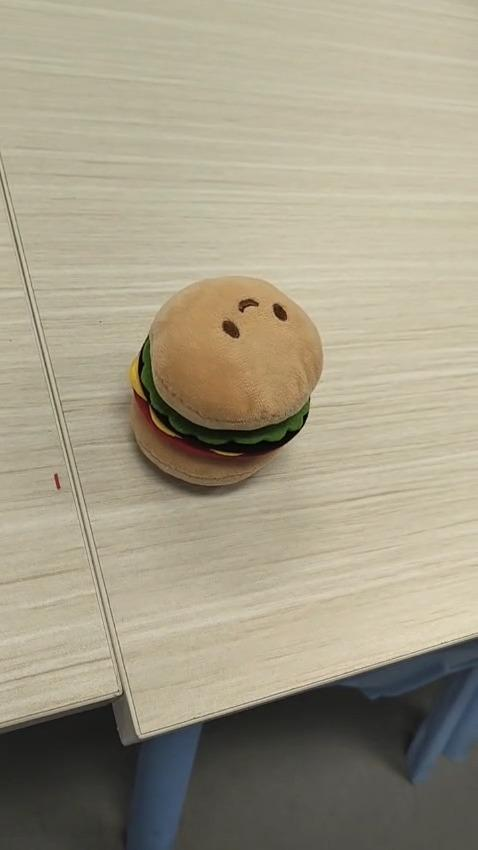hamburger: (127, 273, 324, 488)
